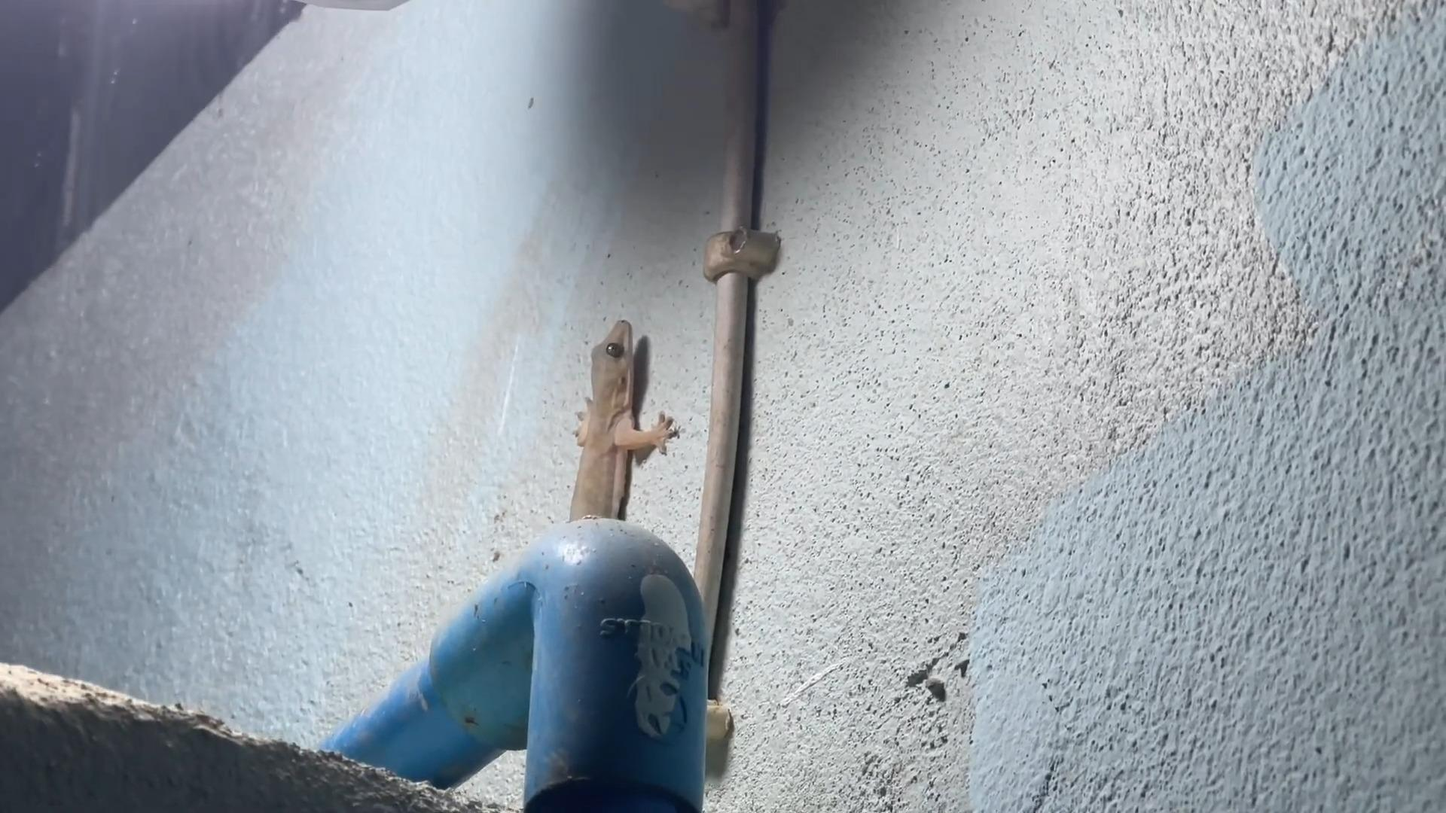lizard: (561, 315, 680, 503)
